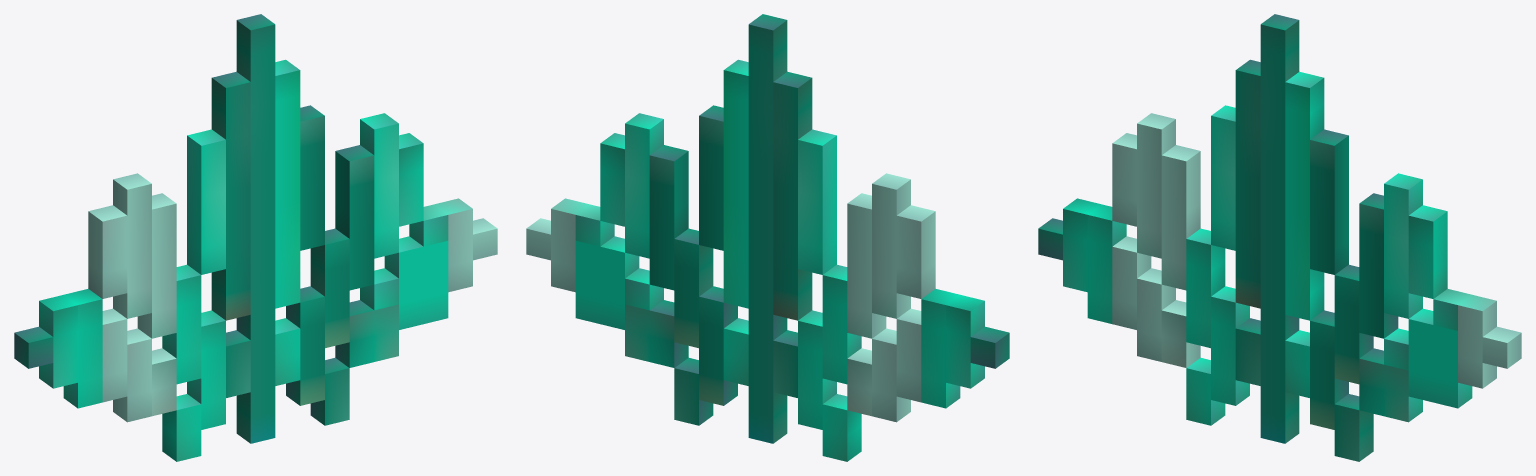
The model's file is BillboardModule_Herb_00.fbx.
The picture shows the model from 3 angles, left to right: view 1: azimuth 30°, elevation 25°; view 2: azimuth 150°, elevation 25°; view 3: azimuth 330°, elevation 25°; orthographic projection.
Visible parts, largest first — view 1: BillboardModule_Herb_00; view 2: BillboardModule_Herb_00; view 3: BillboardModule_Herb_00.
Boxes of the visible parts, x1,y1,x2,y2 form: BillboardModule_Herb_00: (14, 14, 497, 461); BillboardModule_Herb_00: (526, 14, 1009, 461); BillboardModule_Herb_00: (1038, 14, 1521, 461).
Bounding box in the file's own units: 95 × 80 × 5.
